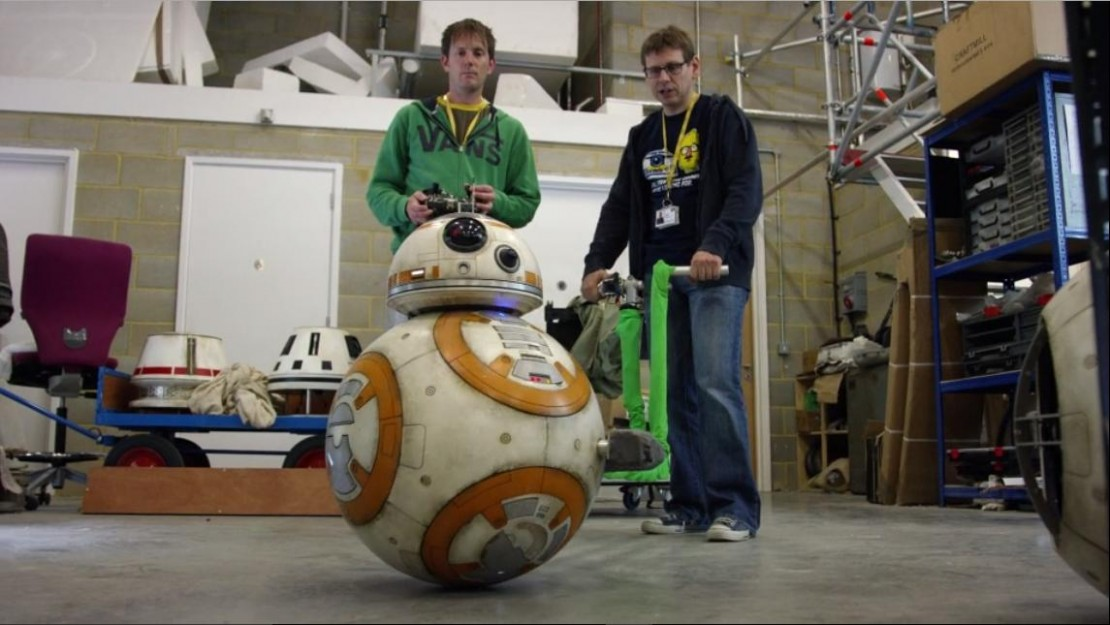bb8: (324, 212, 604, 588)
